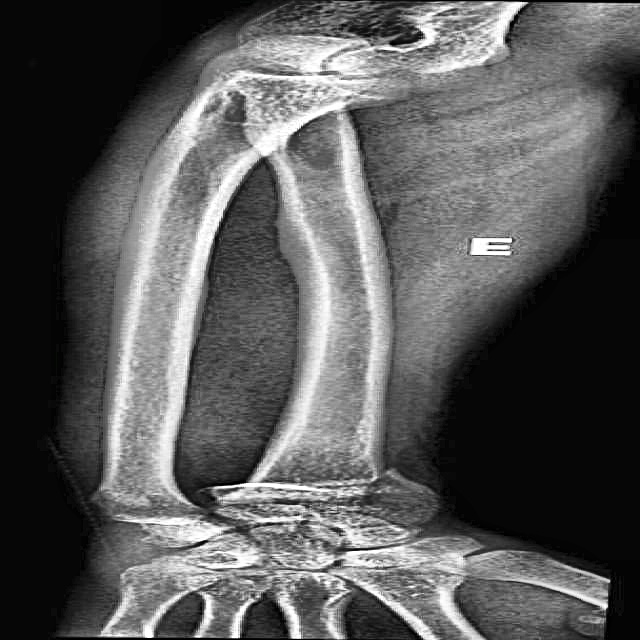Healthy: (73, 131, 450, 486)
